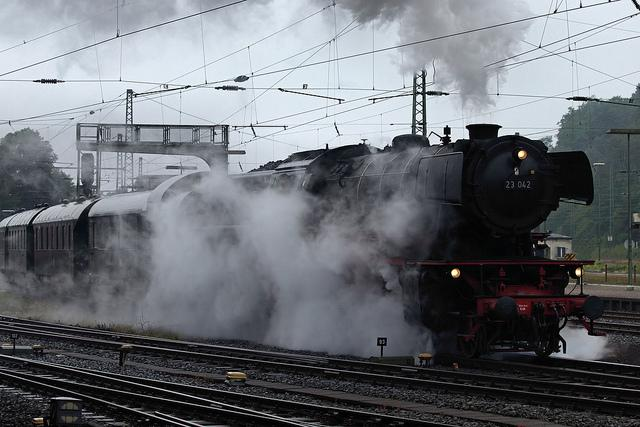Train: (0, 122, 593, 366)
